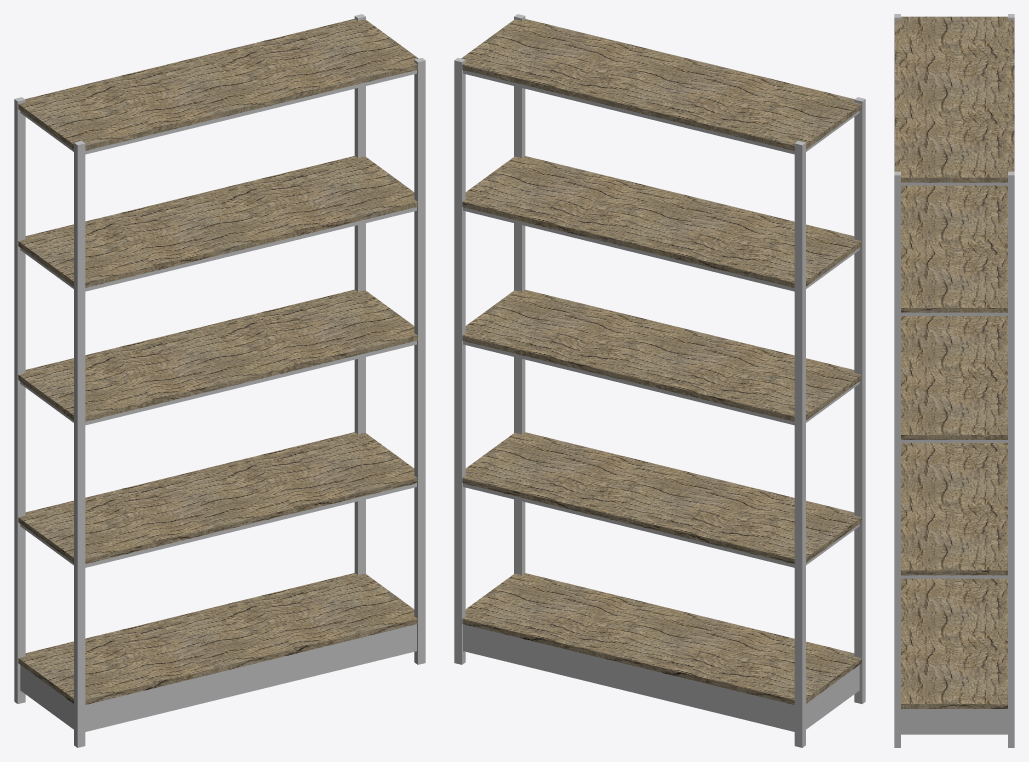
The model's file is shelve_01.FBX.
3 views of the same model, side by side, from view 1: azimuth 30°, elevation 25°; view 2: azimuth 150°, elevation 25°; view 3: azimuth 270°, elevation 25° (orthographic). The views are drawn at different scales.
Parts seen in each view (by area): view 1: shelve_01; view 2: shelve_01; view 3: shelve_01.
Part boxes in pixels (box(x1,y1,x2,y2)): shelve_01: box(14, 14, 425, 747); shelve_01: box(454, 14, 865, 747); shelve_01: box(894, 14, 1014, 747).
Size of the model in its own units: 123 by 204 by 38.85.
